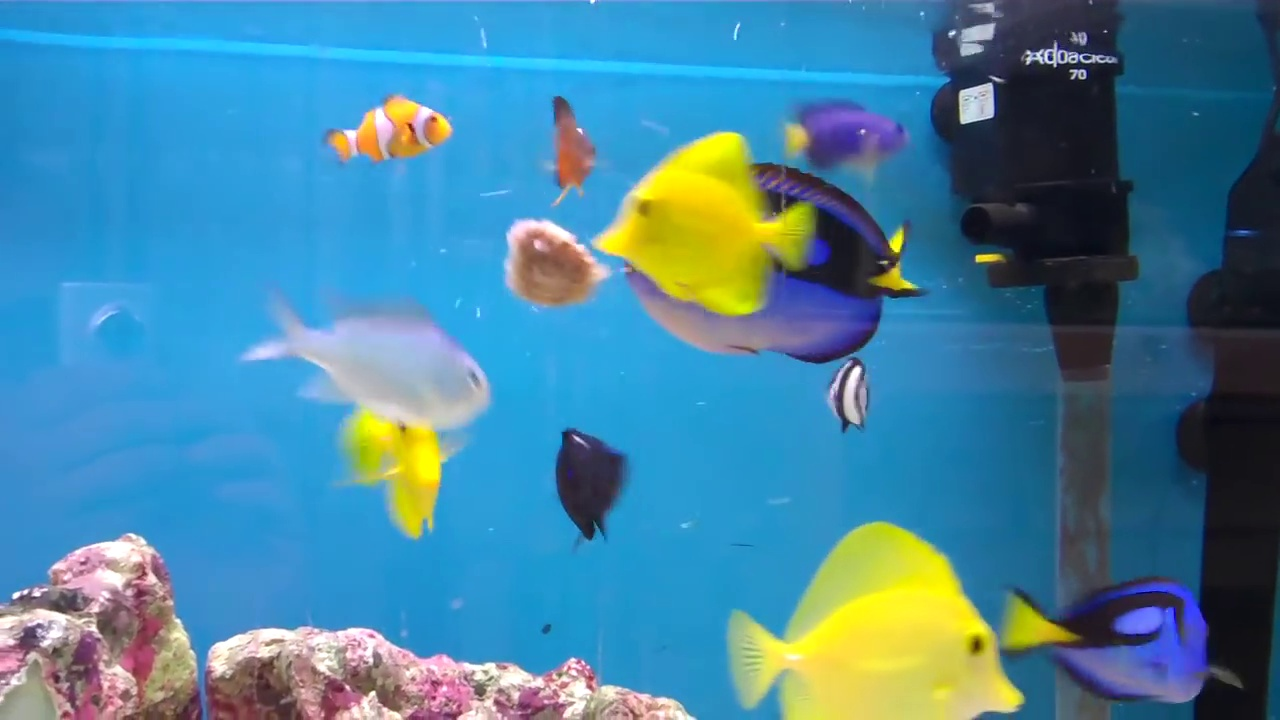blue tang surgeonfish: (1004, 568, 1226, 719)
saddle butterfly fish: (711, 502, 1030, 720), (576, 131, 817, 317)
